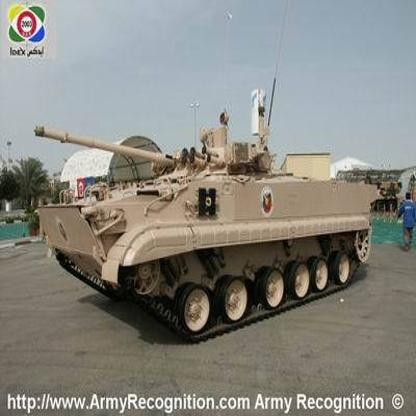Tank: (22, 109, 390, 344)
